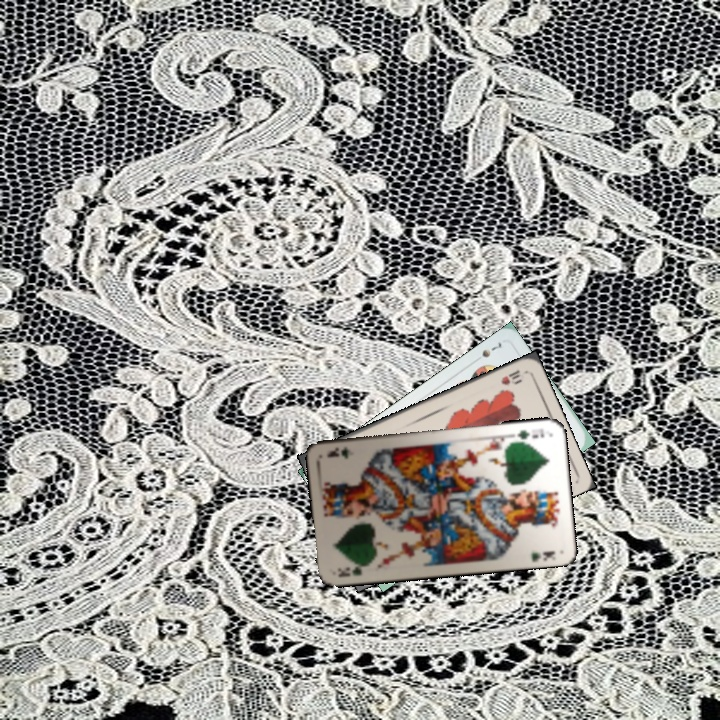GK: (334, 559, 372, 580), (514, 424, 547, 442)
H10: (497, 366, 524, 388)
S7: (478, 337, 504, 360)
